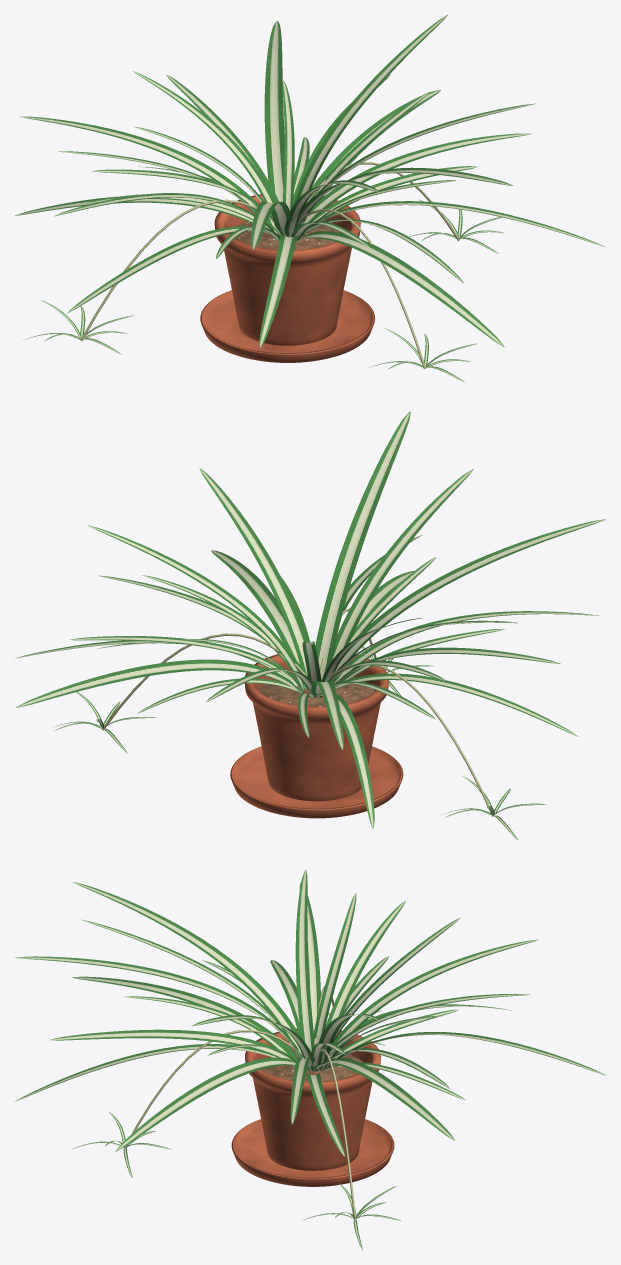
The model's file is chlorophytum.glb.
3 renders of one model, top to bottom at view 1: azimuth 30°, elevation 25°; view 2: azimuth 150°, elevation 25°; view 3: azimuth 270°, elevation 25°, orthographic. The views are drawn at different scales.
Visible parts, largest first — view 1: piece-0, piece-1, piece-14, piece-5, piece-32, piece-16, piece-17, piece-55, piece-10, piece-30, piece-7, piece-8 (+18 smaller); view 2: piece-0, piece-1, piece-26, piece-29, piece-23, piece-14, piece-31, piece-32, piece-8, piece-7, piece-4, piece-10 (+12 smaller); view 3: piece-0, piece-1, piece-23, piece-28, piece-8, piece-13, piece-17, piece-26, piece-10, piece-11, piece-33, piece-25 (+17 smaller).
Part boxes in pixels (x1,y1,x2,y2): piece-0: (214,194,360,345); piece-1: (200,290,375,362); piece-14: (264,21,284,201); piece-5: (296,231,504,347); piece-32: (294,14,448,204); piece-16: (301,133,531,224); piece-17: (19,116,271,224); piece-55: (80,162,459,368); piece-10: (259,234,297,347); piece-30: (133,71,275,213); piece-7: (67,226,268,313); piece-8: (312,201,605,247); piece-0: (244,654,389,801); piece-1: (230,746,403,818); piece-26: (315,411,410,680); piece-29: (199,468,308,675); piece-23: (333,519,605,681); piece-14: (16,659,301,707); piece-31: (332,469,473,659); piece-32: (87,525,304,689); piece-8: (211,550,299,663); piece-7: (335,673,578,736); piece-4: (316,694,374,829); piece-10: (333,611,599,683); piece-0: (245,1028,381,1170); piece-1: (231,1119,394,1186); piece-23: (73,882,303,1058); piece-28: (295,869,313,1051); piece-8: (115,1057,309,1151); piece-13: (50,1029,295,1066); piece-17: (329,939,538,1057); piece-26: (15,956,302,1058); piece-10: (72,976,296,1060); piece-11: (313,1058,454,1140); piece-33: (311,893,356,1045); piece-25: (325,901,405,1028).
Size of the model in its own units: 0.6306 by 0.3031 by 0.7135.
Materials: 4 (3 with a texture image).
